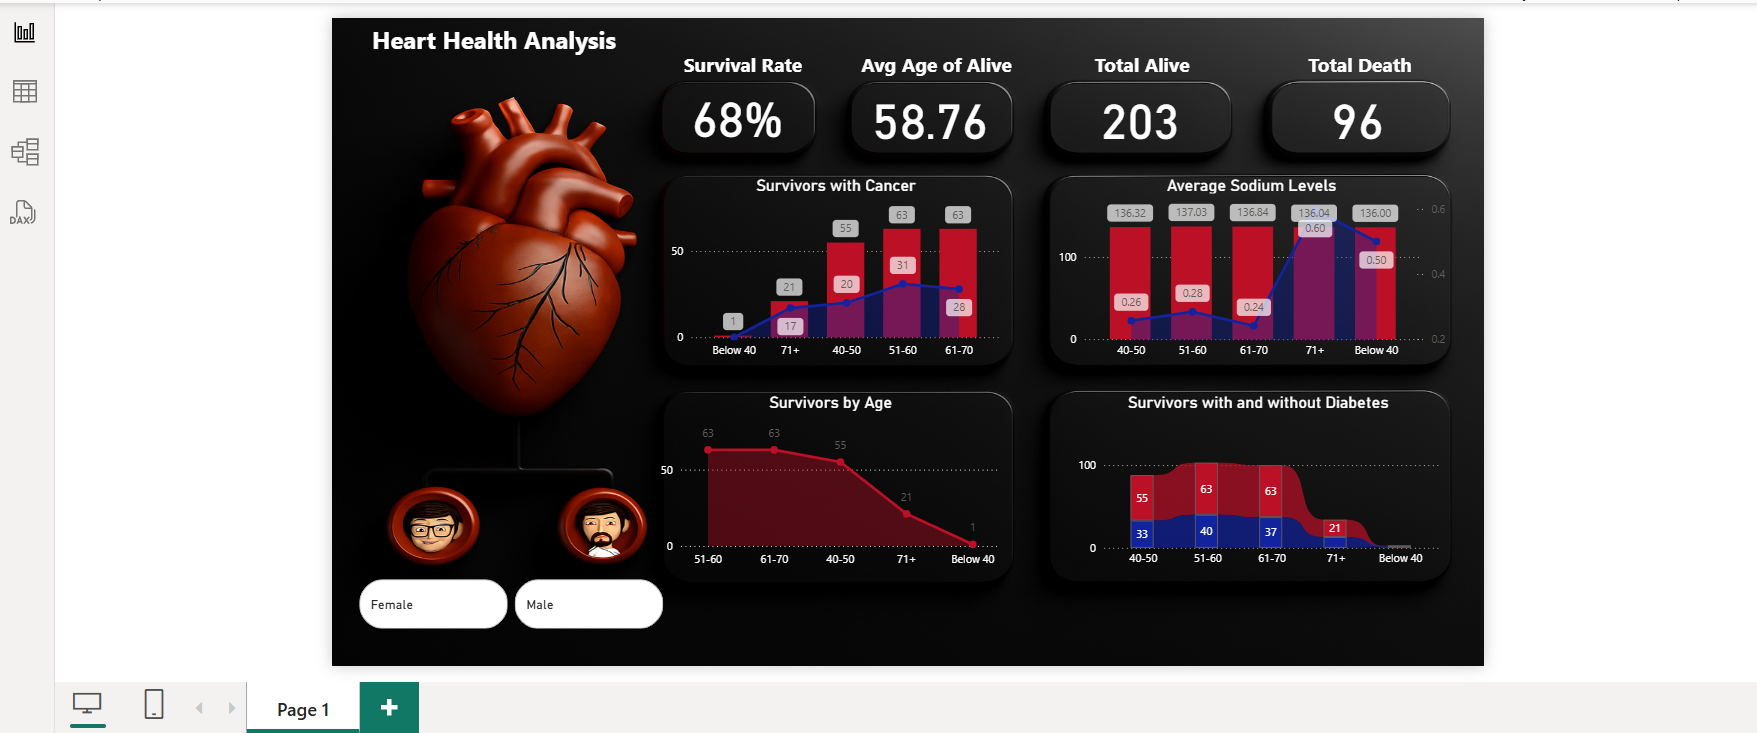

The dashboard page shown, as its layout file describes it:
{"tool":"powerbi","page":{"name":"Page 1","canvas":[1280,720],"ordinal":0},"visuals":[{"type":"textbox","box":[0,0,360,51.7],"z":0},{"type":"card","fields":{"Values":["heart_Disease_clinical_records_.Alive_prc"]},"box":[342,57.3,216.3,98.6],"z":1000},{"type":"card","fields":{"Values":["heart_Disease_clinical_records_.Alive_avg"]},"box":[558.3,62,210,93.8],"z":2000},{"type":"card","fields":{"Values":["heart_Disease_clinical_records_.Total_alive"]},"box":[782.6,62,229,93.8],"z":3000},{"type":"card","fields":{"Values":["heart_Disease_clinical_records_.Total_Death"]},"box":[1032.3,62,214.7,93.8],"z":4000},{"type":"lineClusteredColumnComboChart","title":"Survivors with Cancer","fields":{"Y":["heart_Disease_clinical_records_.Total_alive"],"Y2":["Sum(heart_Disease_clinical_records_.cancer)"],"Category":["heart_Disease_clinical_records_.AGE_GROUP"]},"box":[371.7,175,376.7,211.7],"z":5000},{"type":"lineClusteredColumnComboChart","title":"Average Sodium Levels","fields":{"Category":["heart_Disease_clinical_records_.AGE_GROUP"],"Y":["Avg(heart_Disease_clinical_records_.serum_sodium)"],"Y2":["Avg(heart_Disease_clinical_records_.DEATH_EVENT)"]},"box":[801.7,175,440.6,211.6],"z":6000},{"type":"lineChart","title":"Survivors by Age","fields":{"Y":["heart_Disease_clinical_records_.Total_alive"],"Category":["heart_Disease_clinical_records_.AGE_GROUP"]},"box":[359.5,416.7,388.1,202],"z":7000},{"type":"ribbonChart","title":"Survivors with and without Diabetes","fields":{"Y":["heart_Disease_clinical_records_.Total_alive","Sum(heart_Disease_clinical_records_.diabetes)"],"Category":["heart_Disease_clinical_records_.AGE_GROUP"]},"box":[823.3,416.7,411.7,201.7],"z":8000},{"type":"advancedSlicerVisual","fields":{"Values":["heart_Disease_clinical_records_.Gender"]},"box":[25.4,618.7,349.9,65.2],"z":9000},{"type":"textbox","box":[360,31.7,193.3,41.7],"z":10000},{"type":"textbox","box":[560,31.7,223.3,41.7],"z":11000},{"type":"textbox","box":[801.7,31.8,197.2,41.4],"z":12000},{"type":"textbox","box":[1032.3,31.8,221.1,41.4],"z":13000}]}

Visuals, with their boxes on the page's 1280x720 design canvas (x1, y1, x2, y2). These are canvas units, not pixel positions in the 1757x733 screenshot, which may show the page scaled, cropped or inside an application window:
textbox: (0,0,360,52)
card - heart_Disease_clinical_records_.Alive_prc: (342,57,558,156)
card - heart_Disease_clinical_records_.Alive_avg: (558,62,768,156)
card - heart_Disease_clinical_records_.Total_alive: (783,62,1012,156)
card - heart_Disease_clinical_records_.Total_Death: (1032,62,1247,156)
"Survivors with Cancer" lineClusteredColumnComboChart: (372,175,748,387)
"Average Sodium Levels" lineClusteredColumnComboChart: (802,175,1242,387)
"Survivors by Age" lineChart: (360,417,748,619)
"Survivors with and without Diabetes" ribbonChart: (823,417,1235,618)
advancedSlicerVisual - heart_Disease_clinical_records_.Gender: (25,619,375,684)
textbox: (360,32,553,73)
textbox: (560,32,783,73)
textbox: (802,32,999,73)
textbox: (1032,32,1253,73)
